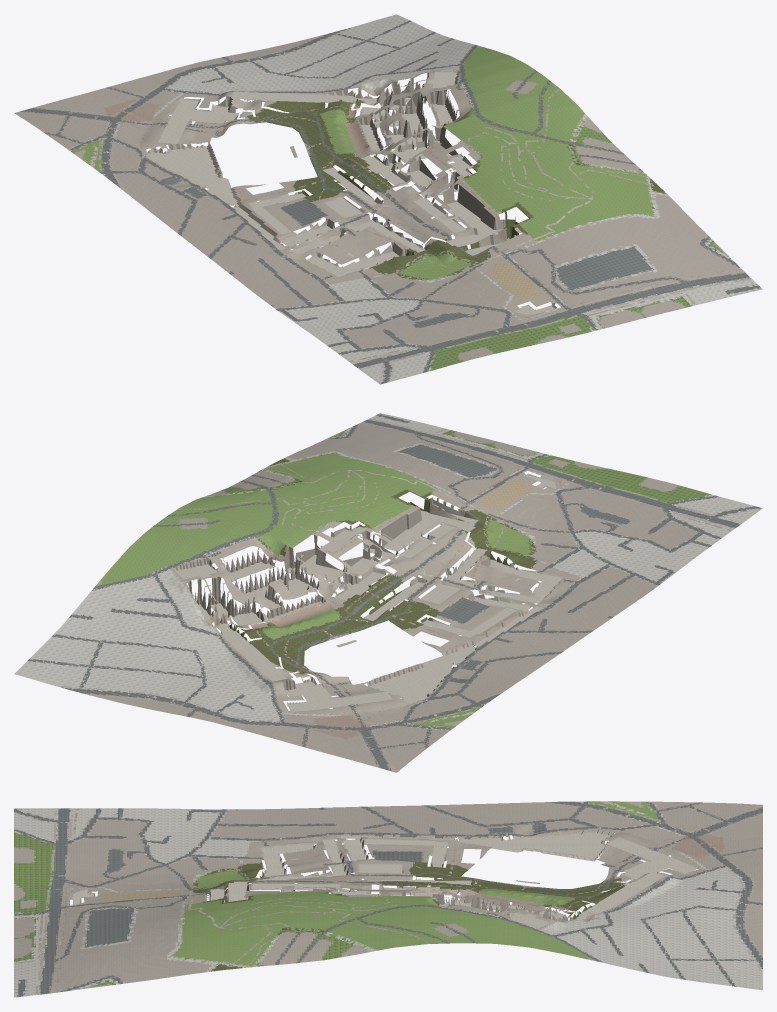
3 views of the same model, one above another, from view 1: azimuth 30°, elevation 25°; view 2: azimuth 150°, elevation 25°; view 3: azimuth 270°, elevation 25° (orthographic). The views are drawn at different scales.
Parts seen in each view (by area): view 1: ground-cityPave, ground-campusPave, ground-grass, ground-alley, ground-placePaving, ground-road, ground-wood, ground-road-overlay, ground-city, ground-aptGarden, ground-sidewalk-overlay, ground-asphalt-overlay (+9 smaller); view 2: ground-cityPave, ground-alley, ground-campusPave, ground-grass, ground-placePaving, ground-road, ground-wood, ground-road-overlay, ground-city, ground-aptGarden, ground-asphalt-overlay, ground-sidewalk-overlay (+9 smaller); view 3: ground-cityPave, ground-alley, ground-grass, ground-campusPave, ground-road, ground-placePaving, ground-wood, ground-road-overlay, ground-city, ground-aptGarden, ground-sidewalk-overlay, ground-asphalt-overlay (+12 smaller).
Part boxes in pixels (box(x1,y1,x2,y2)): ground-cityPave: box(14, 34, 745, 361); ground-campusPave: box(117, 70, 561, 318); ground-grass: box(71, 45, 654, 279); ground-alley: box(167, 14, 762, 384); ground-placePaving: box(148, 72, 554, 314); ground-road: box(22, 21, 749, 383); ground-wood: box(247, 98, 664, 279); ground-road-overlay: box(21, 20, 748, 383); ground-city: box(69, 33, 740, 372); ground-aptGarden: box(430, 125, 722, 370); ground-sidewalk-overlay: box(16, 26, 760, 383); ground-asphalt-overlay: box(19, 20, 760, 383); ground-cityPave: box(86, 422, 698, 772); ground-alley: box(14, 413, 762, 722); ground-campusPave: box(170, 470, 578, 724); ground-grass: box(96, 453, 530, 728); ground-placePaving: box(175, 475, 562, 712); ground-road: box(28, 419, 758, 770); ground-wood: box(230, 454, 537, 674); ground-road-overlay: box(28, 422, 759, 771); ground-city: box(78, 424, 718, 730); ground-aptGarden: box(221, 430, 711, 504); ground-asphalt-overlay: box(27, 414, 760, 771); ground-sidewalk-overlay: box(51, 413, 760, 771); ground-cityPave: box(14, 801, 762, 993); ground-alley: box(14, 808, 762, 997); ground-grass: box(173, 801, 658, 966); ground-campusPave: box(69, 827, 703, 929); ground-road: box(14, 801, 762, 994); ground-placePaving: box(73, 832, 697, 928); ground-wood: box(184, 862, 623, 971); ground-road-overlay: box(14, 802, 762, 992); ground-city: box(14, 801, 762, 991); ground-aptGarden: box(14, 832, 355, 986); ground-sidewalk-overlay: box(14, 801, 762, 996); ground-asphalt-overlay: box(15, 801, 762, 996).
Size of the model in its own units: 408 by 57.25 by 676.
33 materials, 33 textured.
